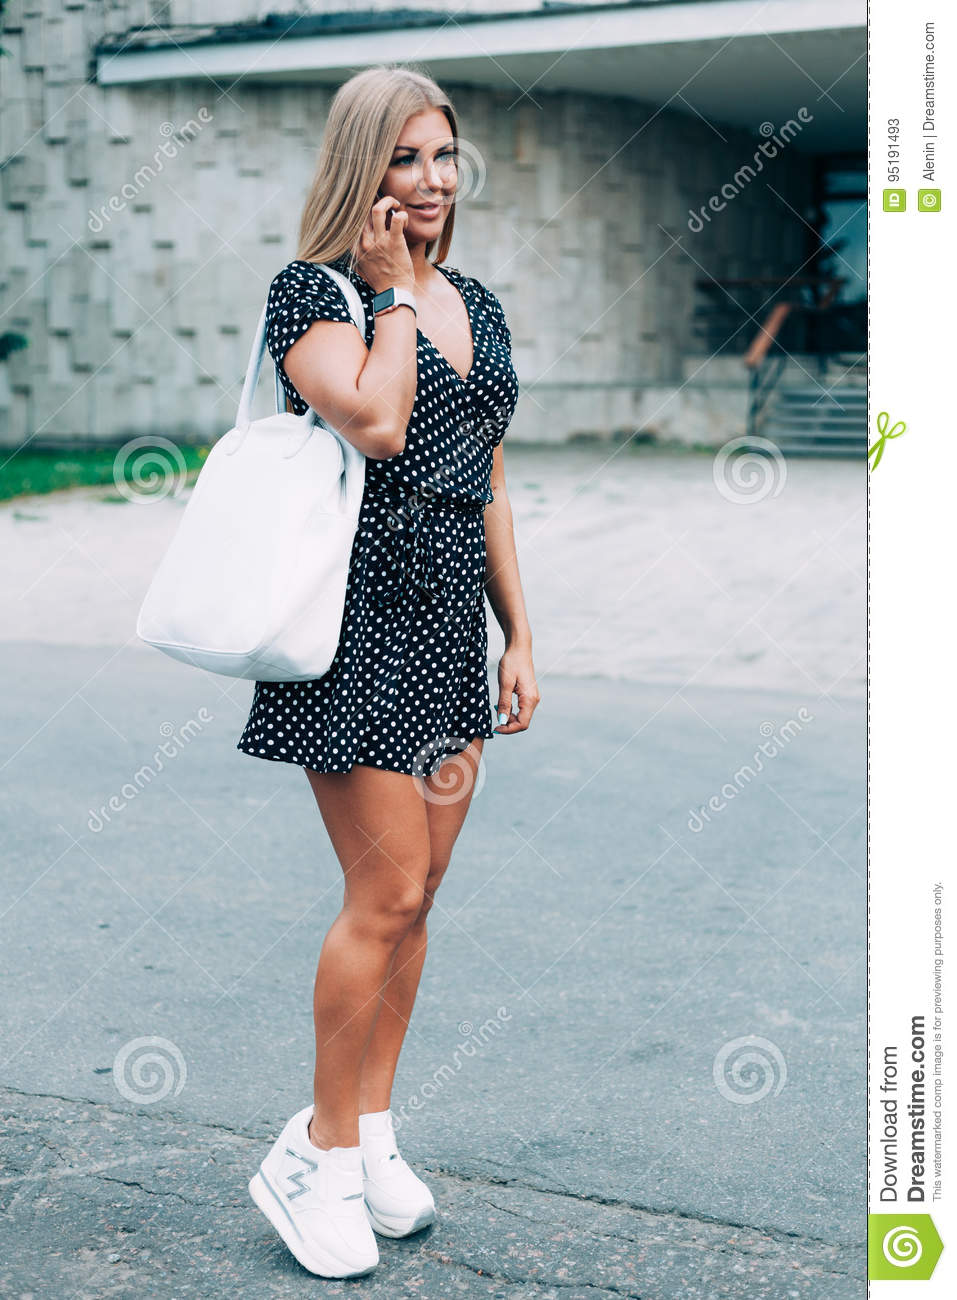talk: (350, 143, 459, 292)
